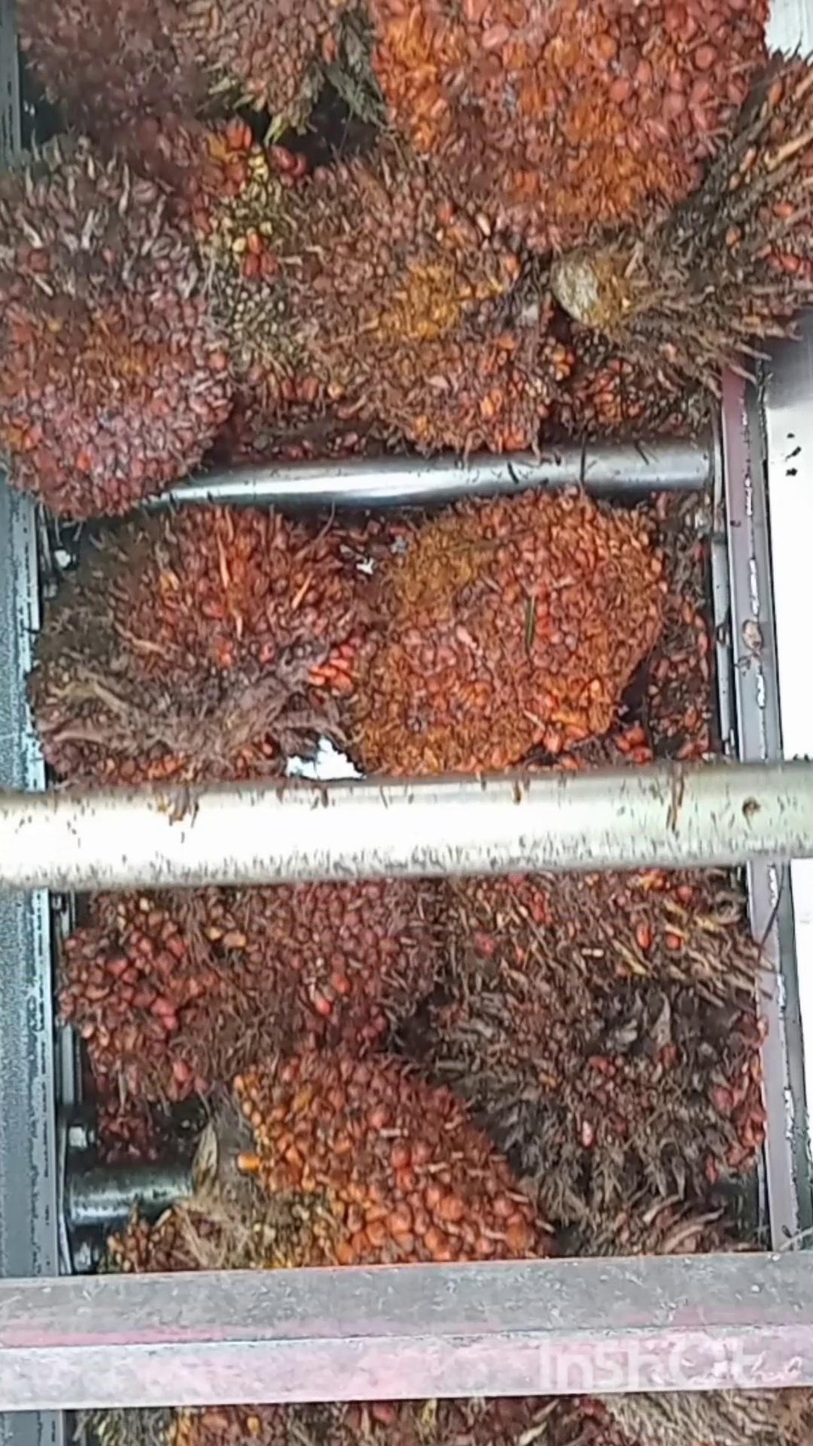Madurado: (366, 0, 767, 249), (363, 489, 686, 767), (240, 174, 566, 449), (0, 142, 229, 526), (43, 515, 335, 790), (192, 1047, 534, 1258)
Podrido: (448, 874, 764, 1205)
